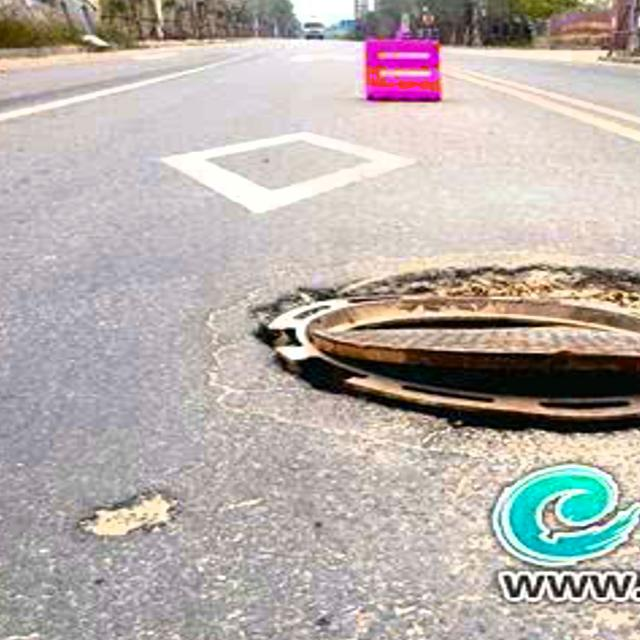circle: (133, 244, 640, 472)
